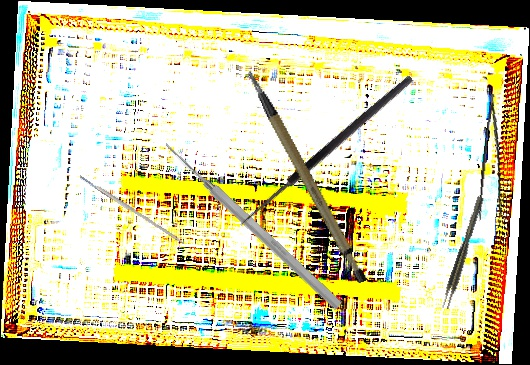Hook Surgical: (237, 73, 422, 238)
Pusher: (160, 138, 345, 312)
Scalpel Handle: (246, 56, 371, 295), (78, 173, 186, 246)
Tissue Forceps: (439, 196, 488, 310), (475, 94, 515, 224)
